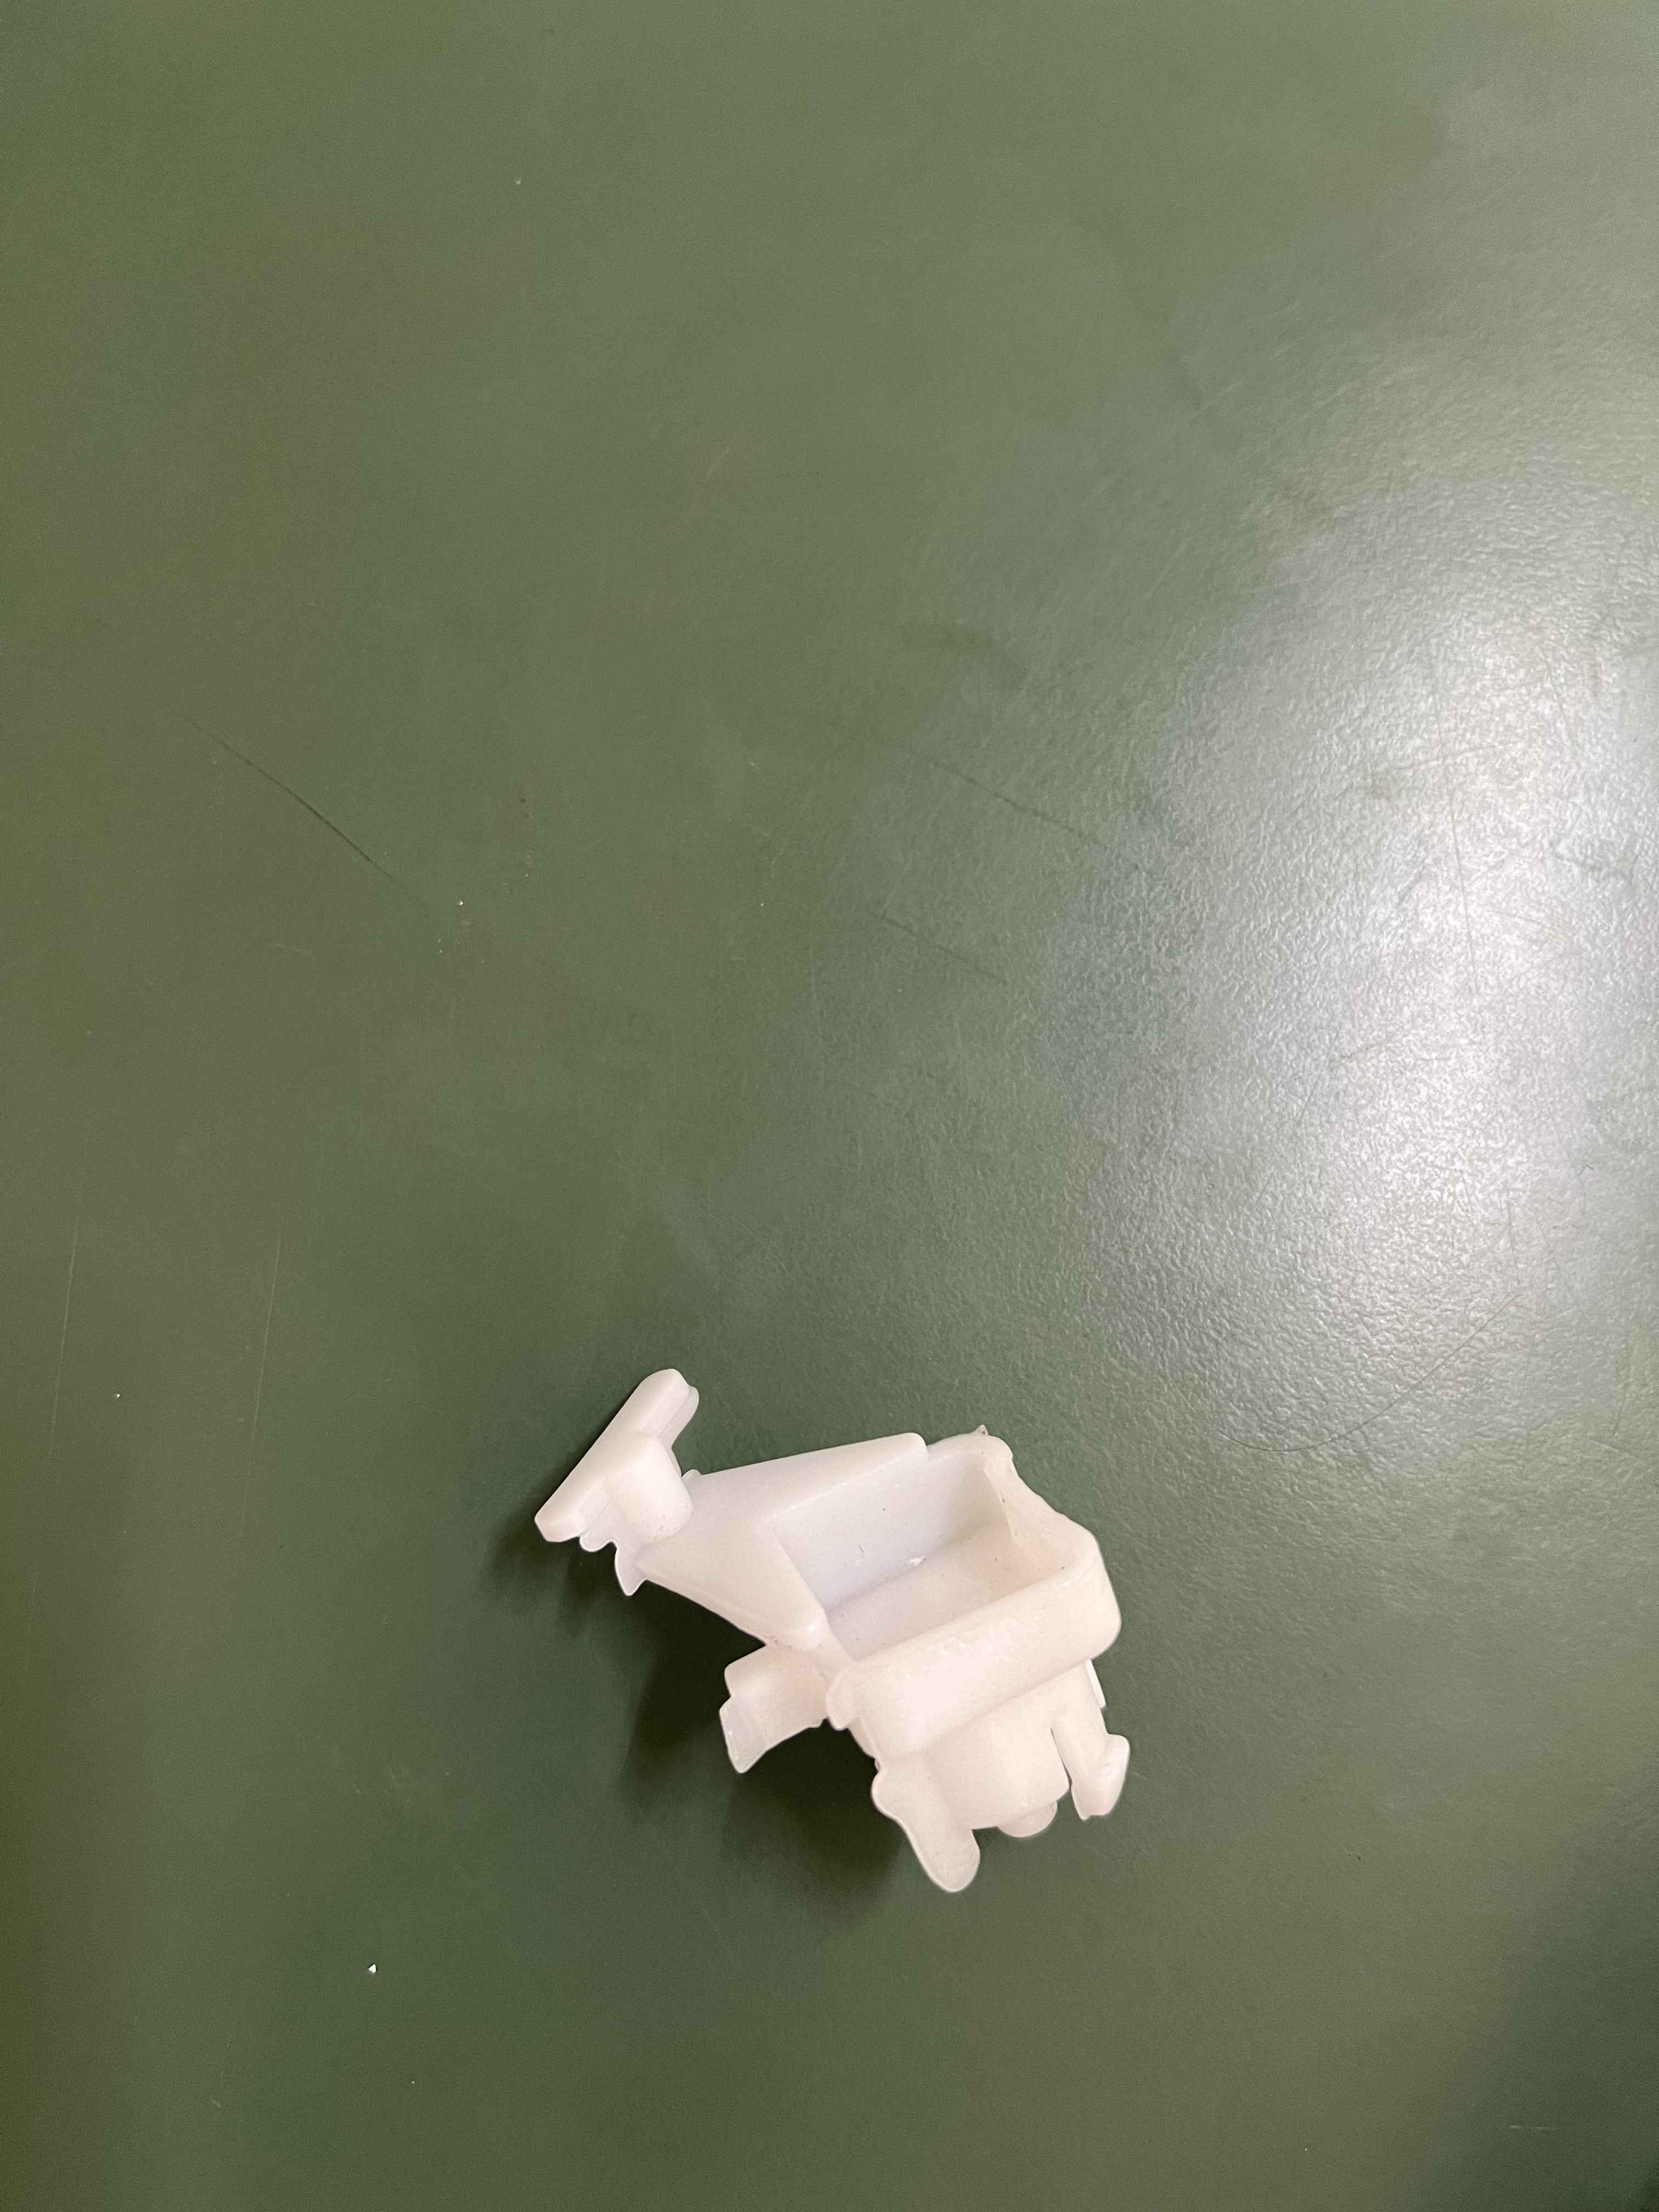drain_lever: (523, 1350, 1178, 1879)
